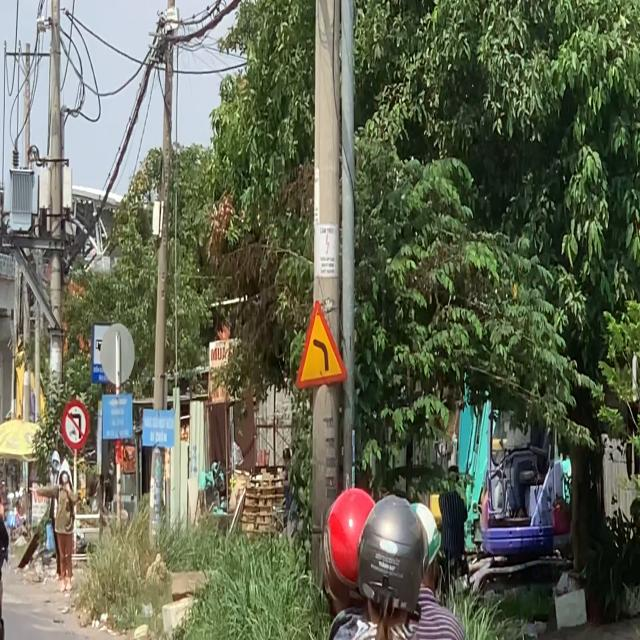Nguy hiem: (294, 293, 350, 392)
